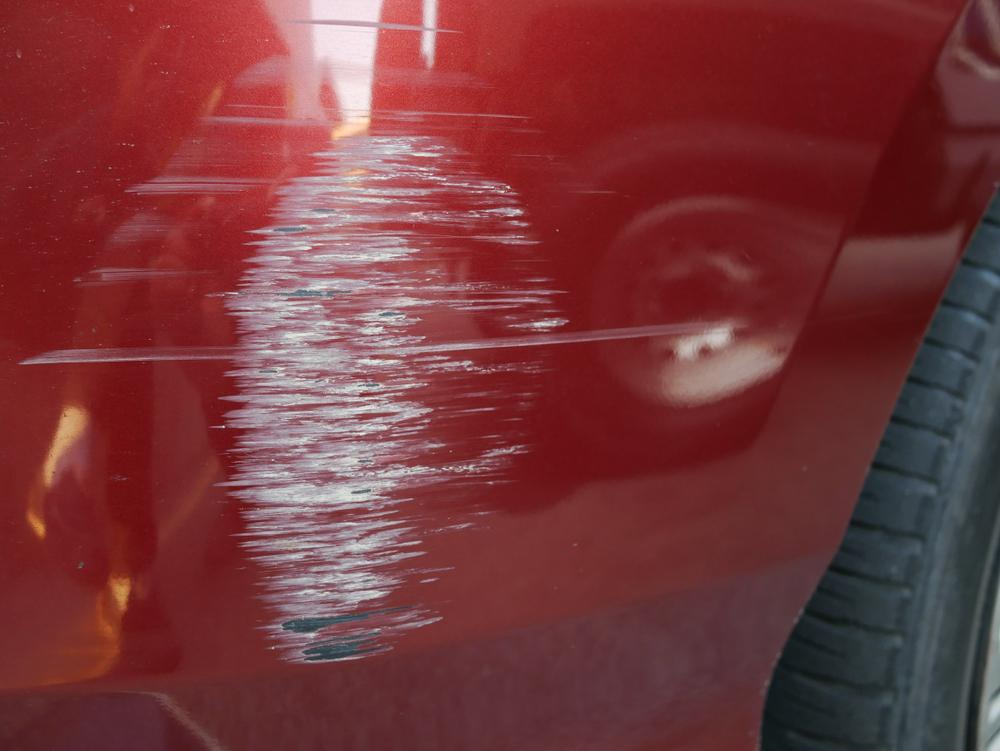scratch: (0, 0, 611, 676)
